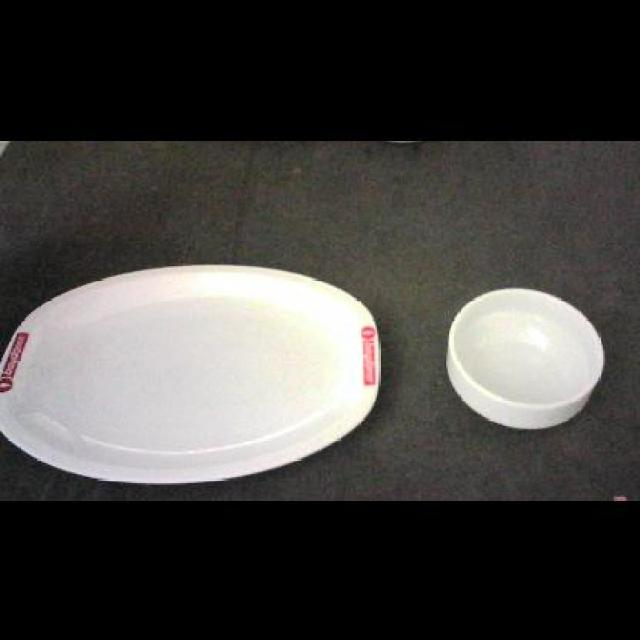plate: (0, 262, 380, 482), (446, 286, 603, 428)
